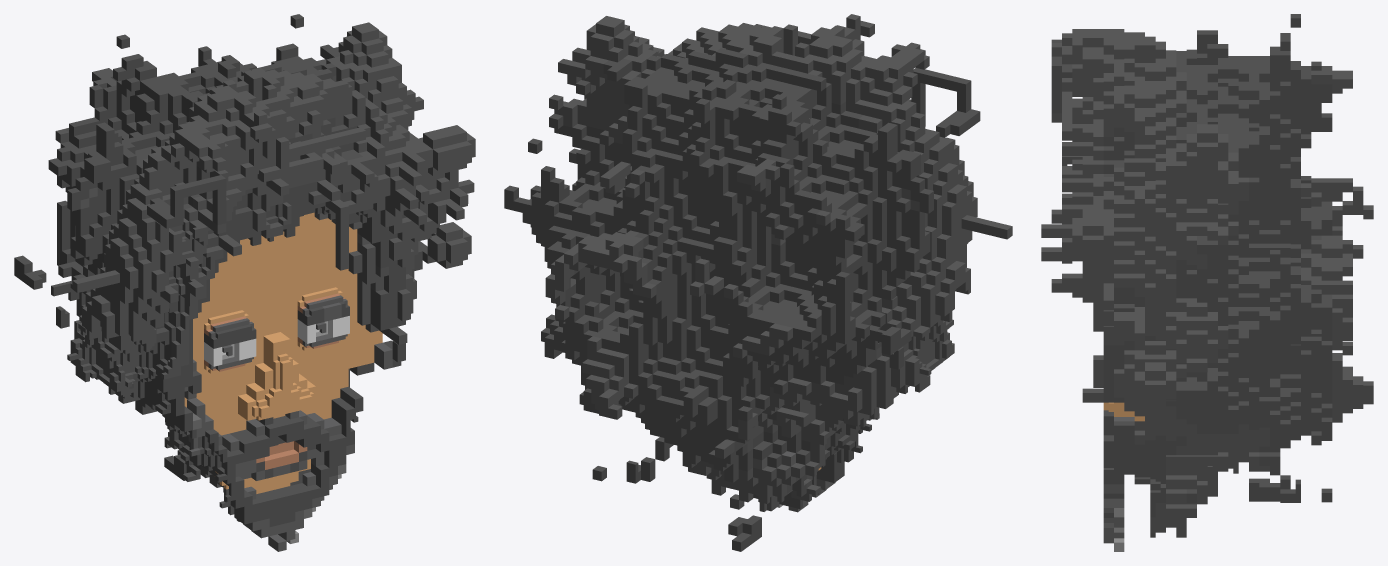
3 renders of one model, left to right at view 1: azimuth 30°, elevation 25°; view 2: azimuth 150°, elevation 25°; view 3: azimuth 270°, elevation 25°, orthographic. The views are drawn at different scales.
Visible parts, largest first — view 1: pi; view 2: pi; view 3: pi.
Part boxes in pixels (left/top/right/bottom): pi: left=14, top=14, right=475, bottom=551; pi: left=504, top=14, right=1012, bottom=551; pi: left=1041, top=14, right=1373, bottom=551.
Size of the model in its own units: 96 by 104 by 64.
1 material, 1 textured.
